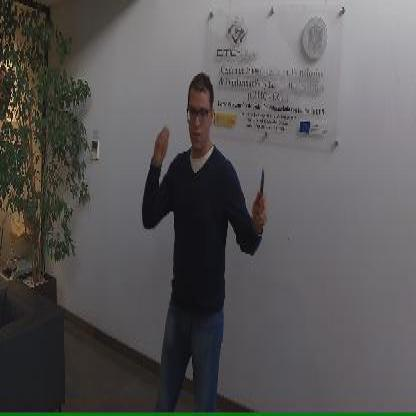knife: (256, 159, 268, 232)
